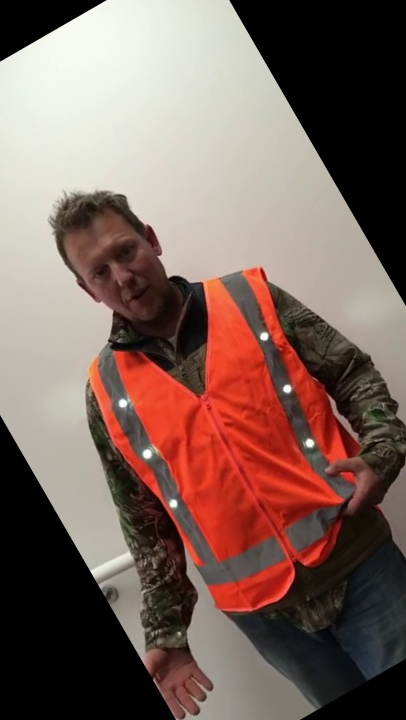NoHardhat: (56, 193, 331, 608)
